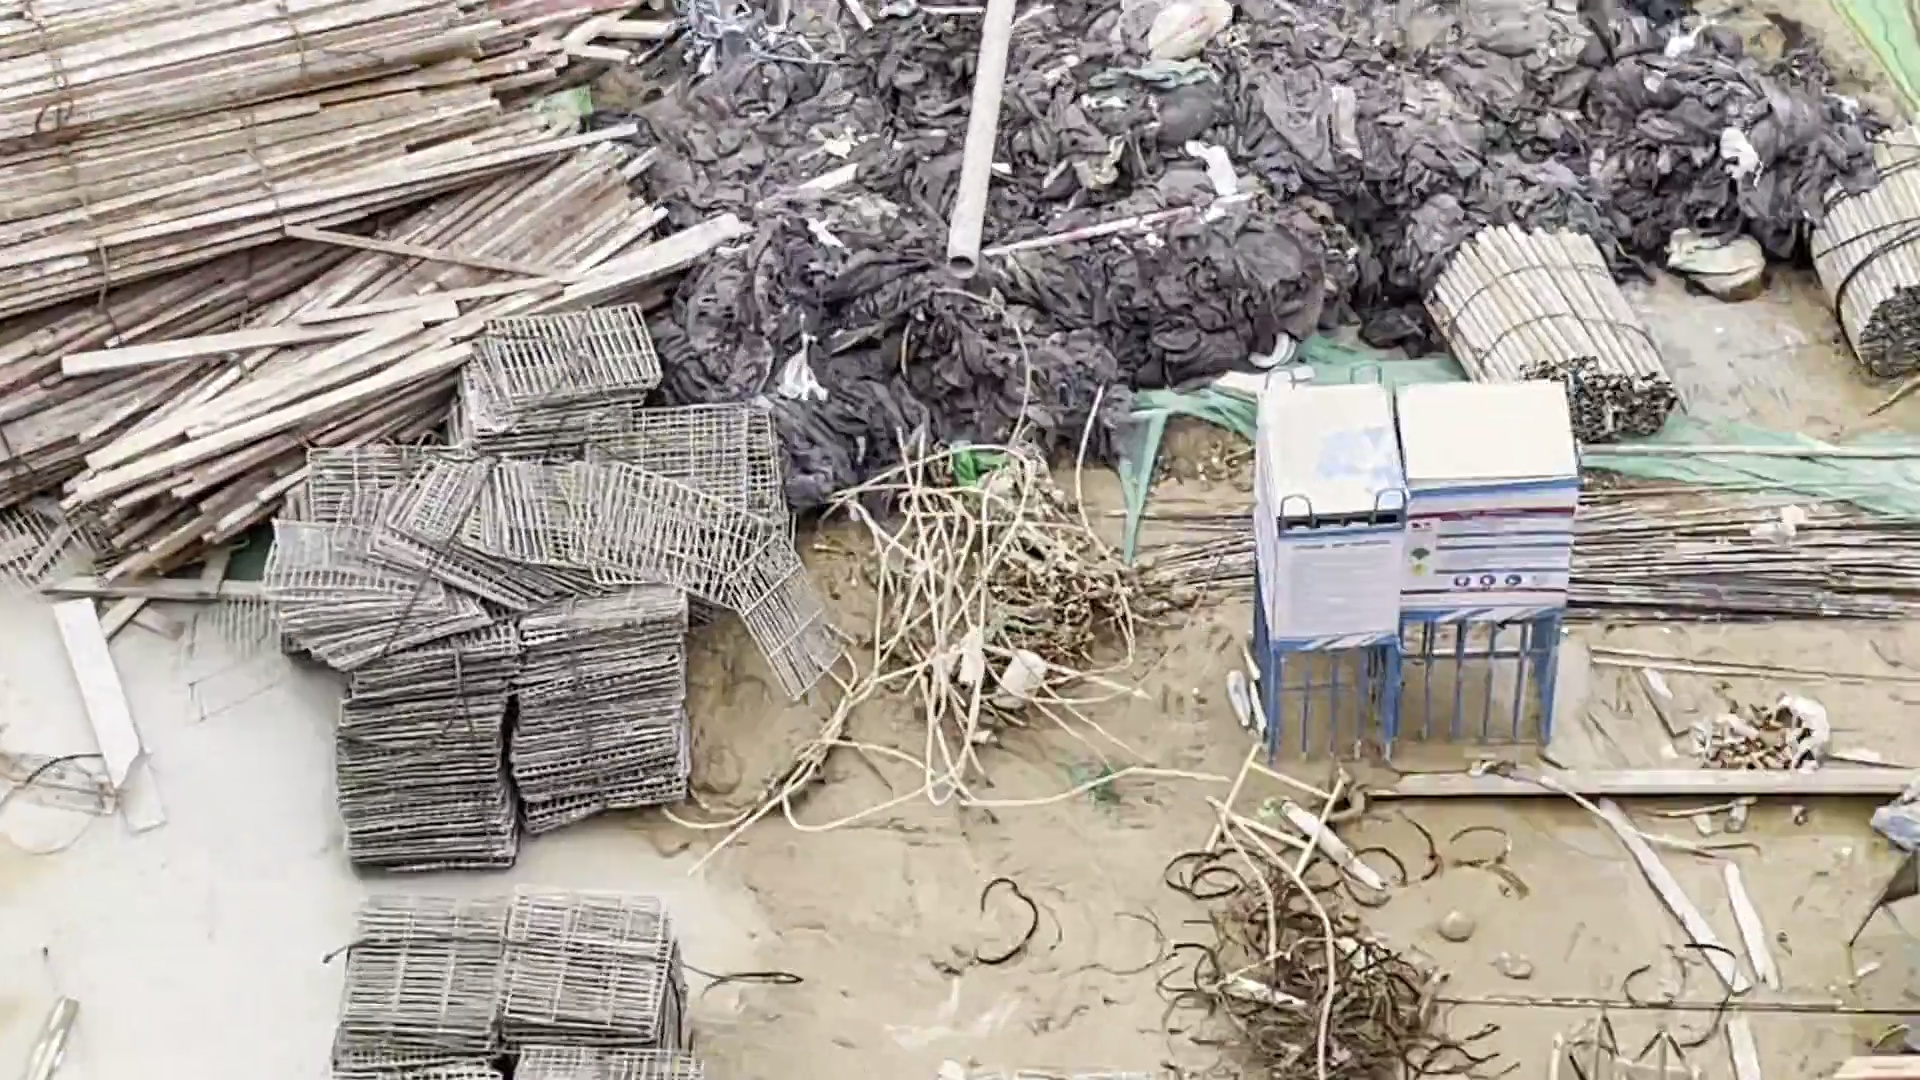scaffold: (1431, 222, 1687, 440), (1803, 123, 1920, 386)
wood: (15, 218, 687, 454), (15, 15, 603, 218)
